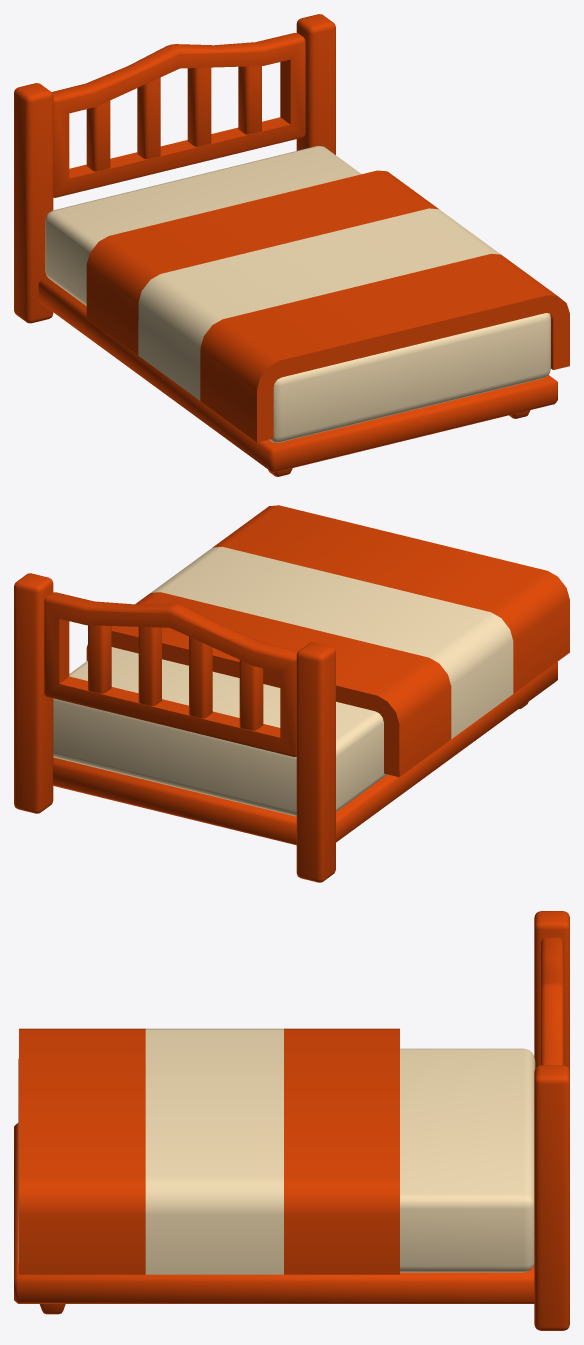
The model's file is Double Bed_2V.fbx.
The picture shows the model from 3 angles, top to bottom: view 1: azimuth 30°, elevation 25°; view 2: azimuth 150°, elevation 25°; view 3: azimuth 270°, elevation 25°; orthographic projection. The views are drawn at different scales.
Parts seen in each view (by area): view 1: Double Bed_2V; view 2: Double Bed_2V; view 3: Double Bed_2V.
Boxes of the visible parts, bbox=[...] form: Double Bed_2V: bbox=[14, 14, 569, 476]; Double Bed_2V: bbox=[14, 505, 569, 882]; Double Bed_2V: bbox=[14, 911, 569, 1330].
Size of the model in its own units: 1.27 by 0.9156 by 1.75.
